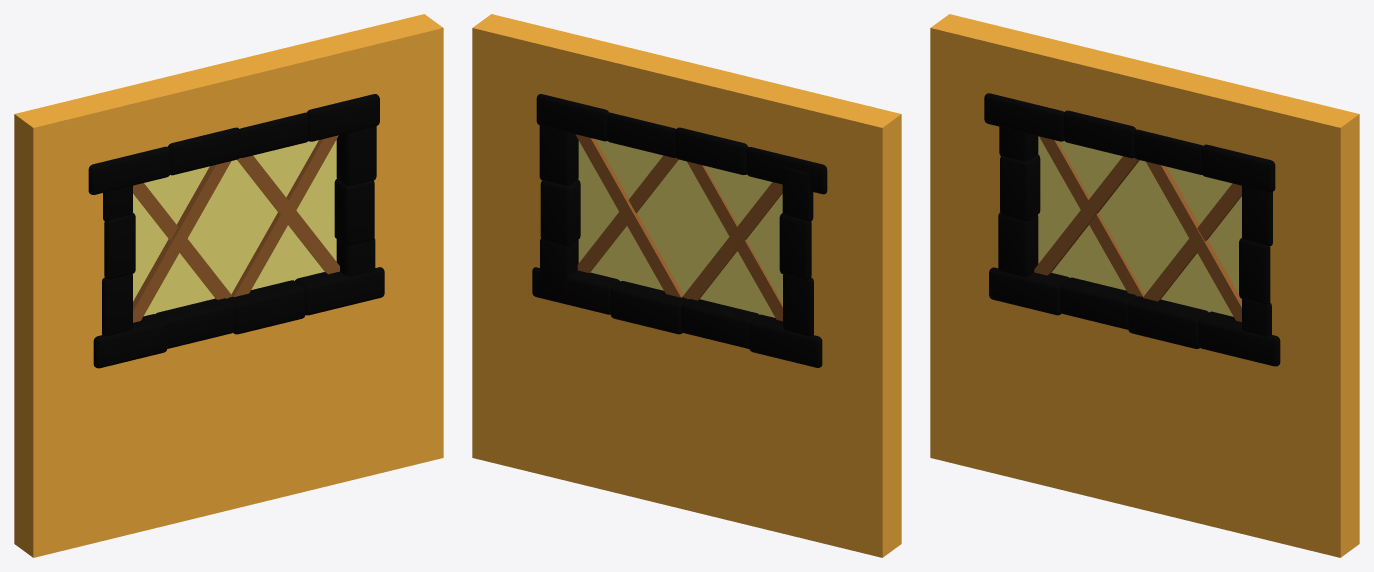
Rendered from Wall 7.fbx.
The picture shows the model from 3 angles, left to right: view 1: azimuth 30°, elevation 25°; view 2: azimuth 150°, elevation 25°; view 3: azimuth 330°, elevation 25°; orthographic projection.
Parts seen in each view (by area): view 1: Wall 7; view 2: Wall 7; view 3: Wall 7.
Boxes of the visible parts, box(x1,y1,x2,y2) form: Wall 7: box(14, 14, 443, 557); Wall 7: box(472, 14, 901, 557); Wall 7: box(930, 14, 1359, 557).
Bounding box in the file's own units: 249 × 249 × 26.94.
1 material, 1 textured.
